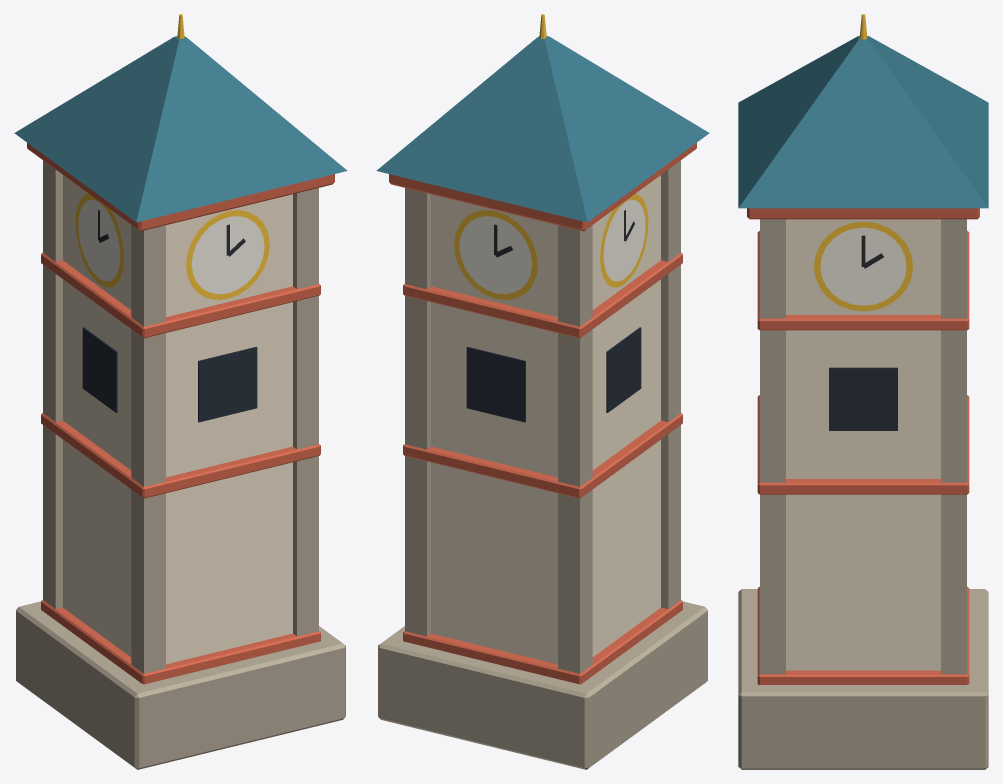
Rendered from tower.glb.
3 renders of one model, left to right at view 1: azimuth 30°, elevation 25°; view 2: azimuth 150°, elevation 25°; view 3: azimuth 270°, elevation 25°, orthographic. The views are drawn at different scales.
Parts seen in each view (by area): view 1: tower; view 2: tower; view 3: tower.
Part boxes in pixels (<box>): tower: <box>14,14,347,769</box>; tower: <box>376,14,709,769</box>; tower: <box>738,14,988,769</box>.
Size of the model in its own units: 5.8 by 18 by 5.8.
